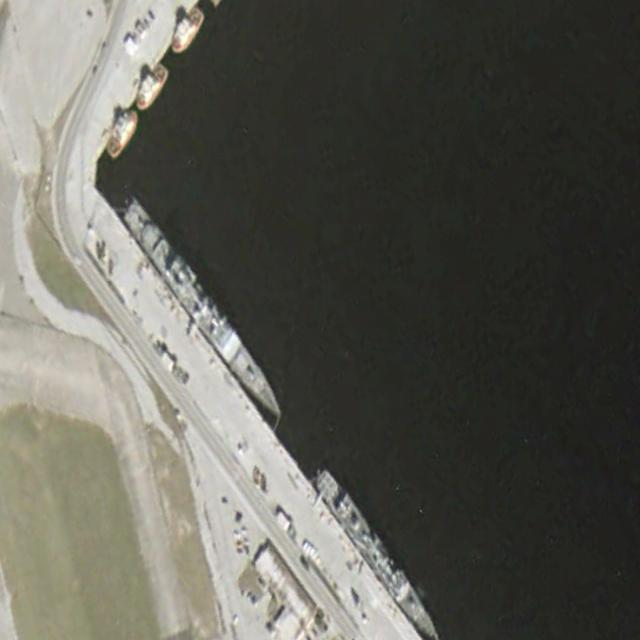Cruiser: (121, 193, 288, 428)
Frigate: (311, 461, 446, 640)
Hovercraft: (130, 55, 171, 117), (101, 102, 142, 164), (167, 1, 207, 60)
